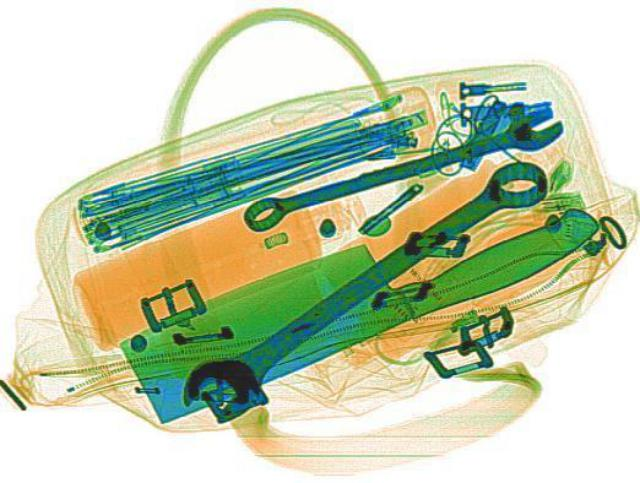Knife: (93, 158, 613, 425)
Wrench: (164, 141, 566, 428), (229, 101, 571, 235)
